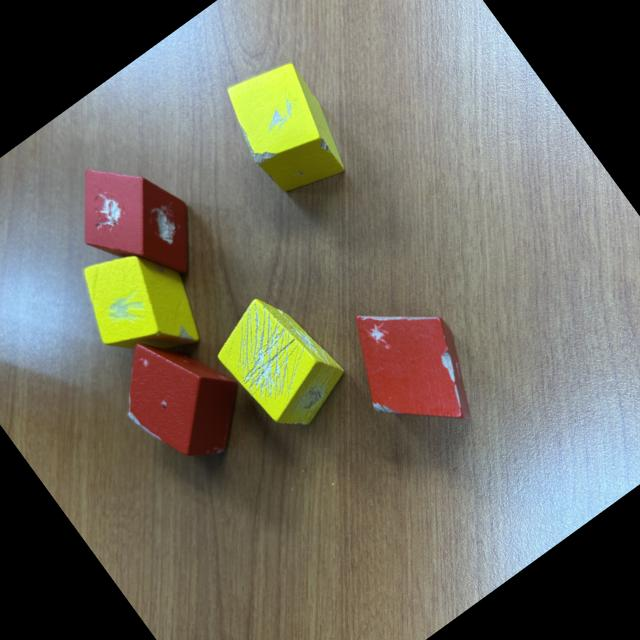broken: (325, 278, 501, 462), (96, 308, 268, 486), (52, 134, 220, 310), (200, 278, 360, 446), (62, 224, 220, 388), (212, 48, 362, 210)
